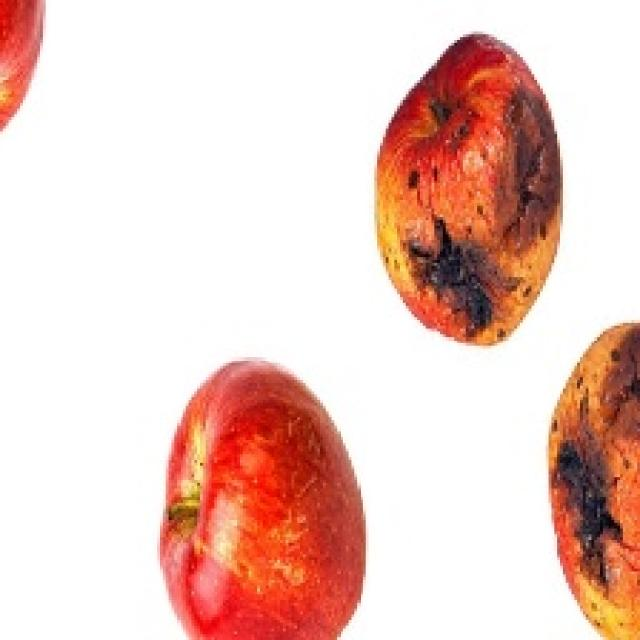rotten_apple: (381, 38, 558, 341), (545, 323, 640, 640)
